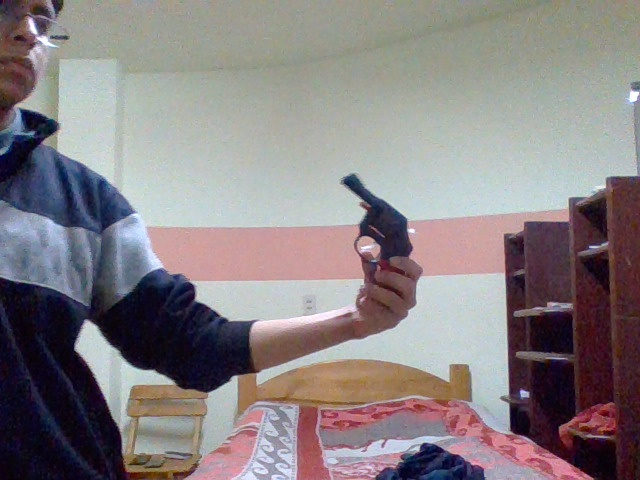pistola: (331, 161, 435, 312)
